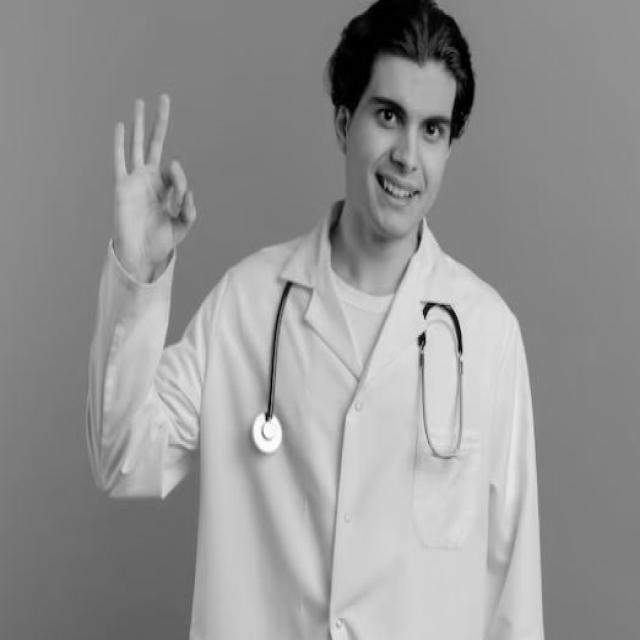perfect: (110, 88, 201, 269)
